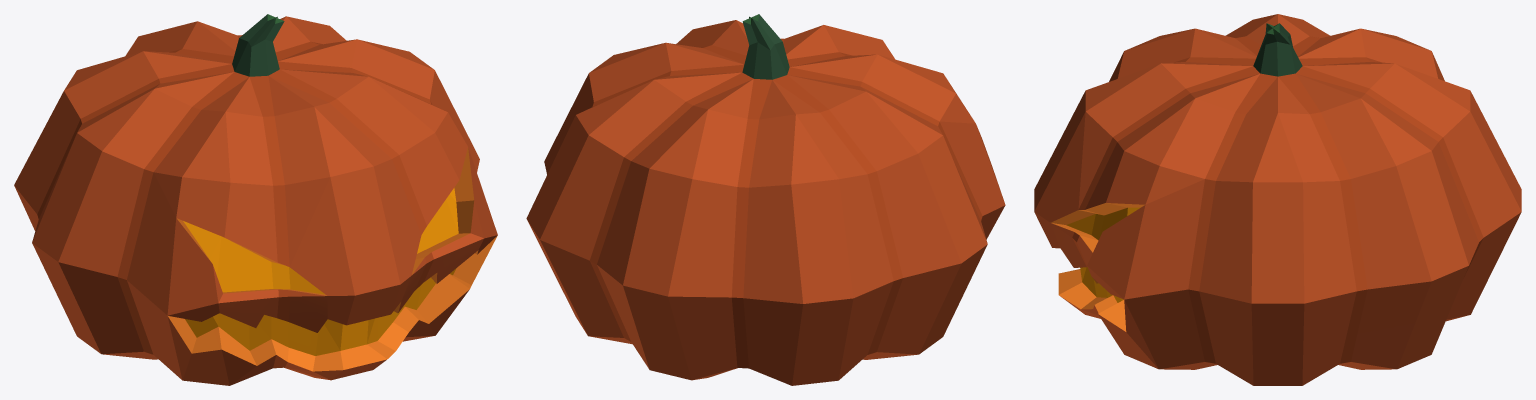
The model's file is Pumpkin.fbx.
The picture shows the model from 3 angles, left to right: view 1: azimuth 30°, elevation 25°; view 2: azimuth 150°, elevation 25°; view 3: azimuth 270°, elevation 25°; orthographic projection.
Parts seen in each view (by area): view 1: pumpkin_carved_lit_a__4_; view 2: pumpkin_carved_lit_a__4_; view 3: pumpkin_carved_lit_a__4_.
Part boxes in pixels (<box>): pumpkin_carved_lit_a__4_: <box>14,14,497,385</box>; pumpkin_carved_lit_a__4_: <box>526,14,1005,385</box>; pumpkin_carved_lit_a__4_: <box>1034,14,1521,385</box>.
Size of the model in its own units: 3075 by 2212 by 3075.
